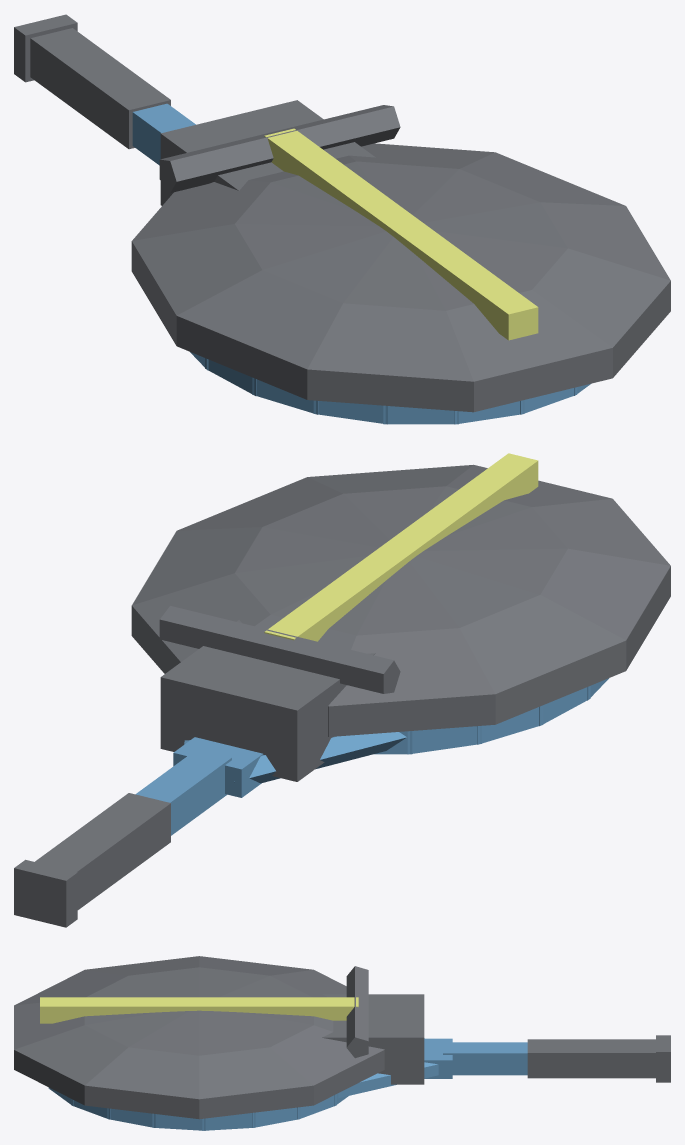
Rendered from tennis-club-and-courts-tennis-racket-in-cover-1cc8a05c__33617.glb.
3 renders of one model, top to bottom at view 1: azimuth 30°, elevation 25°; view 2: azimuth 150°, elevation 25°; view 3: azimuth 270°, elevation 25°, orthographic. The views are drawn at different scales.
Visible parts, largest first — view 1: tennis-racket-in-cover; view 2: tennis-racket-in-cover; view 3: tennis-racket-in-cover.
Part boxes in pixels (box(x1,y1,x2,y2)): tennis-racket-in-cover: box(14, 14, 670, 424); tennis-racket-in-cover: box(14, 453, 670, 927); tennis-racket-in-cover: box(14, 956, 670, 1130).
Bounding box in the file's own units: 0.3614 × 0.0854 × 0.7006.
